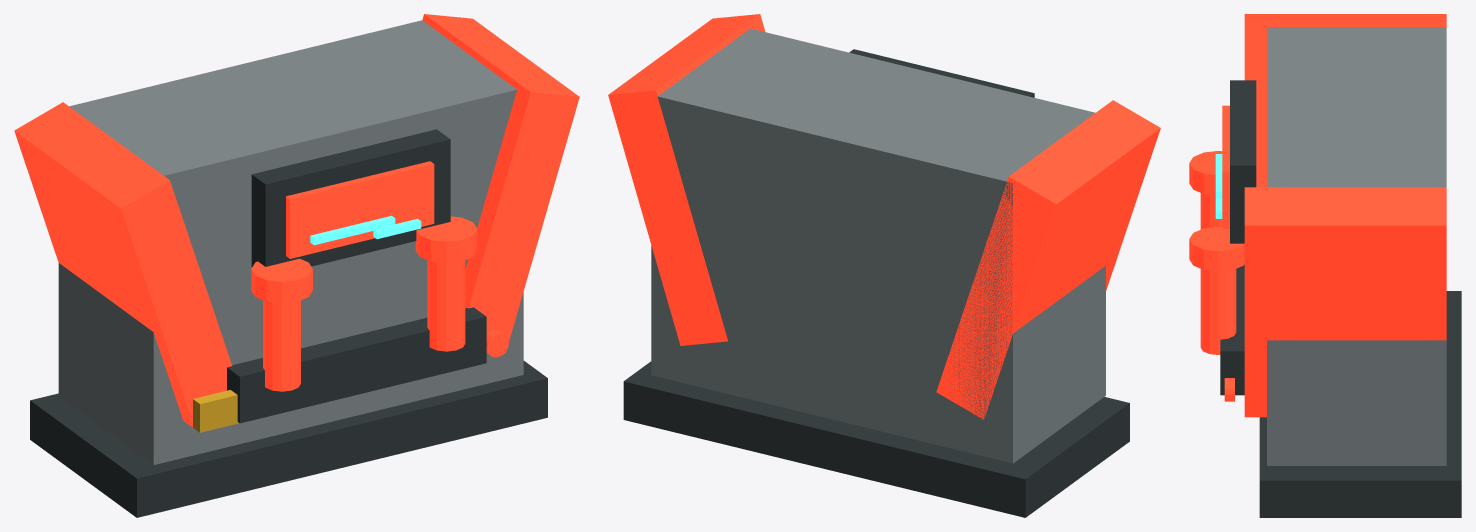
Rendered from thruster_control.glb.
3 renders of one model, left to right at view 1: azimuth 30°, elevation 25°; view 2: azimuth 150°, elevation 25°; view 3: azimuth 270°, elevation 25°, orthographic. The views are drawn at different scales.
Parts seen in each view (by area): view 1: thruster_control_housing, thruster_control_left_fin, thruster_control_mount_rail, thruster_control_right_fin, thruster_control_throttle_bar, thruster_control_screen_bezel, thruster_control_screen_glass, thruster_control_lever_1, thruster_control_lever_0, thruster_control_lever_cap_0, thruster_control_lever_cap_1, thruster_control_caution (+1 smaller); view 2: thruster_control_housing, thruster_control_left_fin, thruster_control_mount_rail, thruster_control_right_fin, thruster_control_screen_bezel; view 3: thruster_control_housing, thruster_control_right_fin, thruster_control_mount_rail, thruster_control_left_fin, thruster_control_screen_bezel, thruster_control_lever_1, thruster_control_lever_cap_1, thruster_control_throttle_bar, thruster_control_lever_cap_0, thruster_control_screen_glass, thruster_control_lever_0, thruster_control_screen_ui_bar_a.
Boxes of the visible parts, bbox=[...] form: thruster_control_housing: bbox=[58, 20, 523, 465]; thruster_control_left_fin: bbox=[14, 102, 231, 427]; thruster_control_mount_rail: bbox=[30, 361, 547, 517]; thruster_control_right_fin: bbox=[422, 14, 579, 353]; thruster_control_throttle_bar: bbox=[227, 307, 486, 423]; thruster_control_screen_bezel: bbox=[251, 129, 450, 267]; thruster_control_screen_glass: bbox=[286, 161, 434, 258]; thruster_control_lever_1: bbox=[427, 260, 465, 351]; thruster_control_lever_0: bbox=[263, 300, 300, 391]; thruster_control_lever_cap_0: bbox=[251, 258, 312, 303]; thruster_control_lever_cap_1: bbox=[415, 216, 477, 263]; thruster_control_caution: bbox=[193, 390, 238, 432]; thruster_control_housing: bbox=[651, 28, 1105, 463]; thruster_control_left_fin: bbox=[936, 100, 1160, 419]; thruster_control_mount_rail: bbox=[623, 361, 1129, 517]; thruster_control_right_fin: bbox=[608, 14, 765, 345]; thruster_control_screen_bezel: bbox=[849, 49, 1034, 97]; thruster_control_housing: bbox=[1267, 27, 1446, 465]; thruster_control_right_fin: bbox=[1244, 187, 1446, 417]; thruster_control_mount_rail: bbox=[1259, 291, 1461, 517]; thruster_control_left_fin: bbox=[1244, 14, 1446, 187]; thruster_control_screen_bezel: bbox=[1230, 80, 1256, 243]; thruster_control_lever_1: bbox=[1200, 269, 1236, 354]; thruster_control_lever_cap_1: bbox=[1189, 226, 1244, 271]; thruster_control_throttle_bar: bbox=[1220, 264, 1244, 395]; thruster_control_lever_cap_0: bbox=[1189, 151, 1222, 195]; thruster_control_screen_glass: bbox=[1222, 105, 1229, 228]; thruster_control_lever_0: bbox=[1200, 193, 1222, 229]; thruster_control_screen_ui_bar_a: bbox=[1215, 154, 1222, 198].
Bounding box in the file's own units: 0.6695 × 0.4705 × 0.364.
